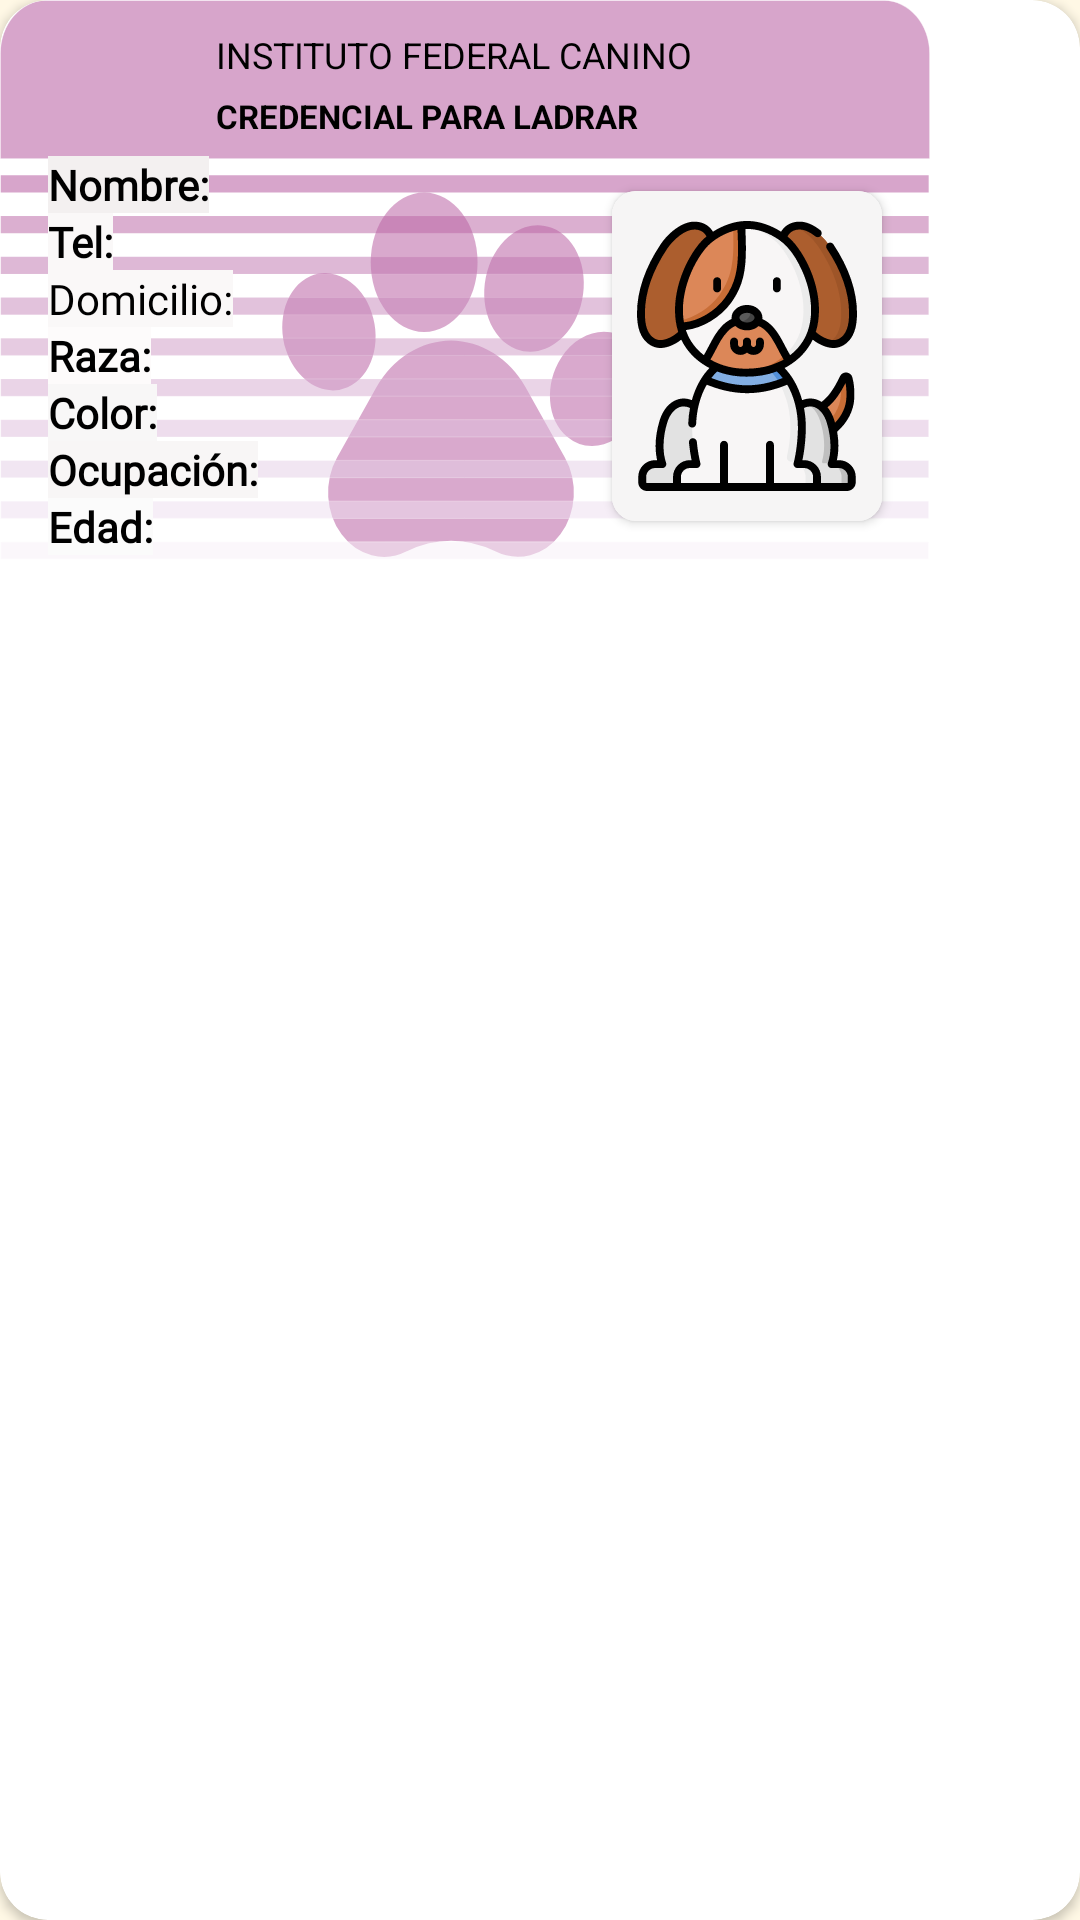

Icons on this 1080w x 1920h Android screen, each with its box as (x1, y1, x2, y2):
pet: (612, 221, 882, 519)
